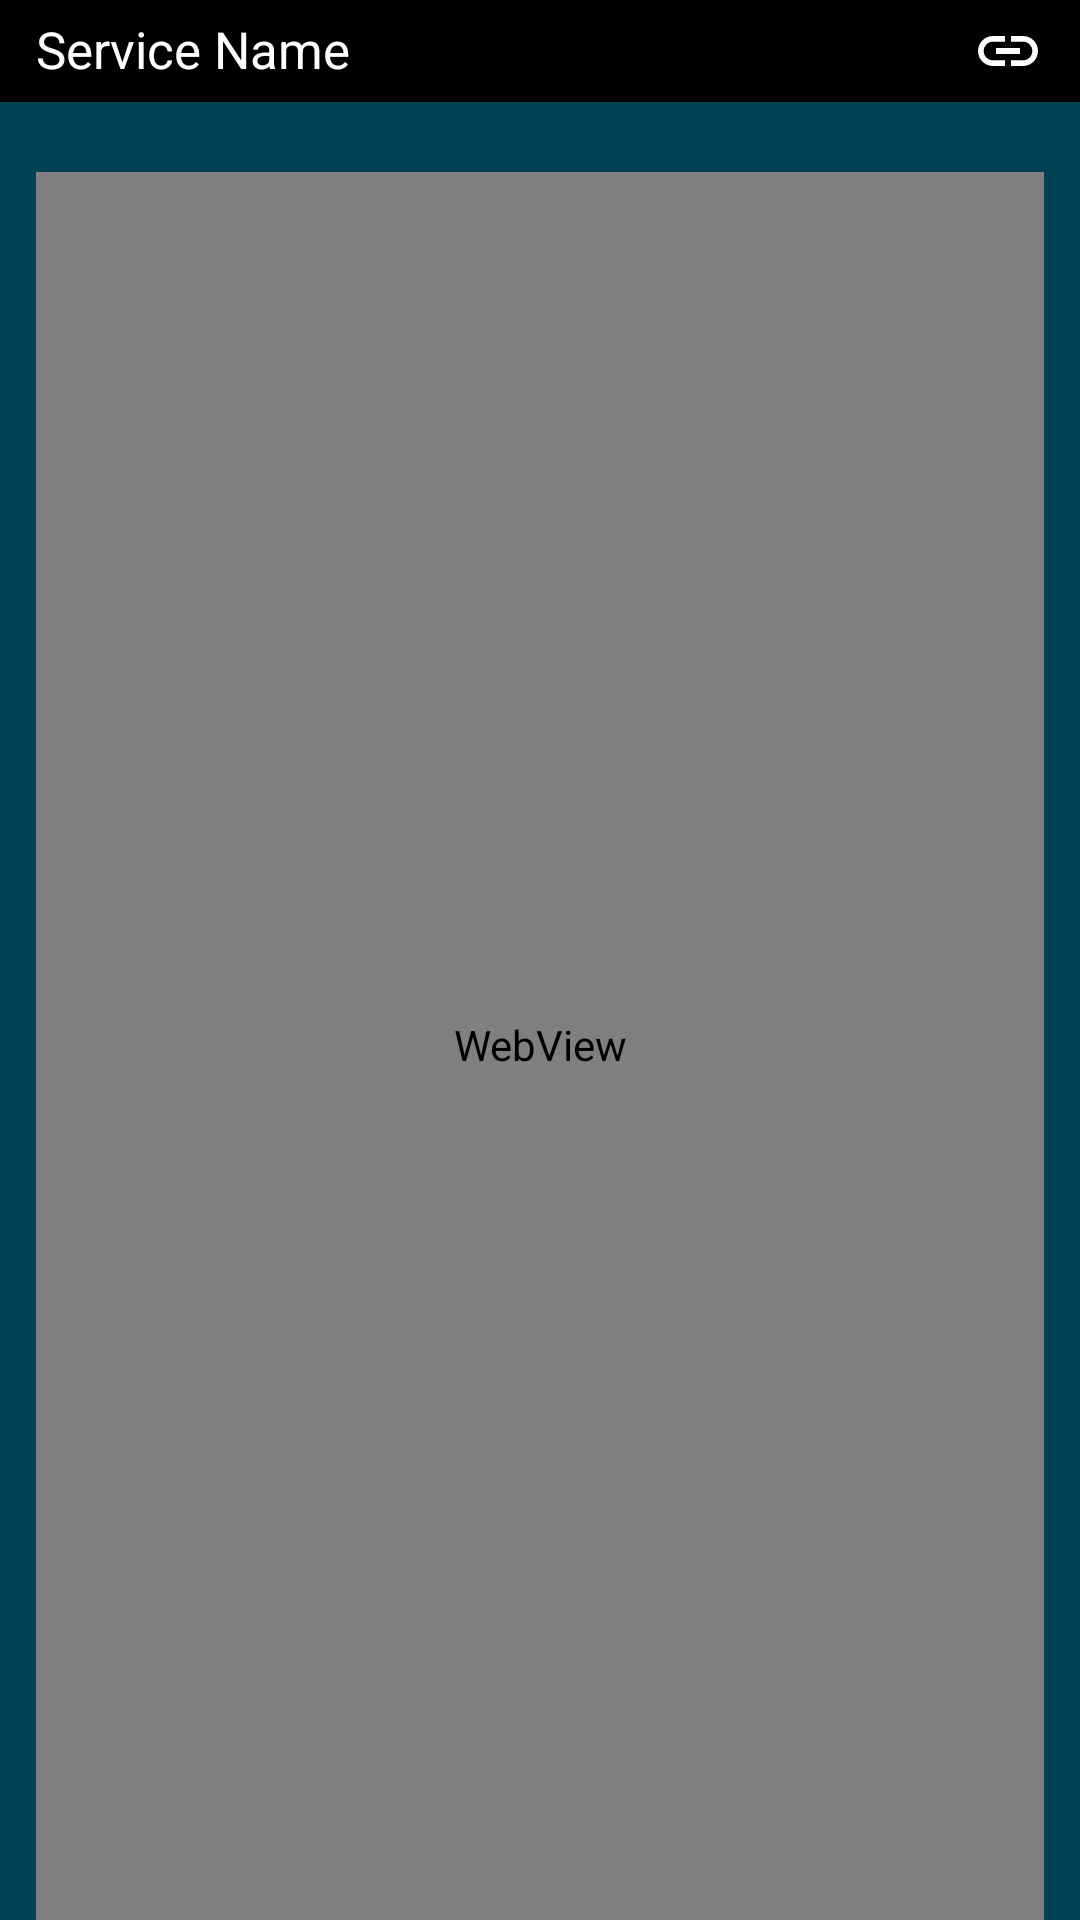

Icon bounding boxes for this 1080 x 1920 phone screenshot, format (x1, y1, x2, y2):
insert link: (978, 36, 1038, 66)
